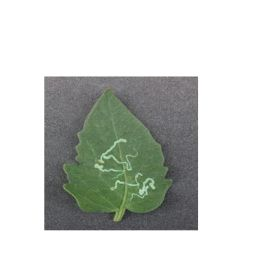liriomyza: (93, 137, 157, 201)
